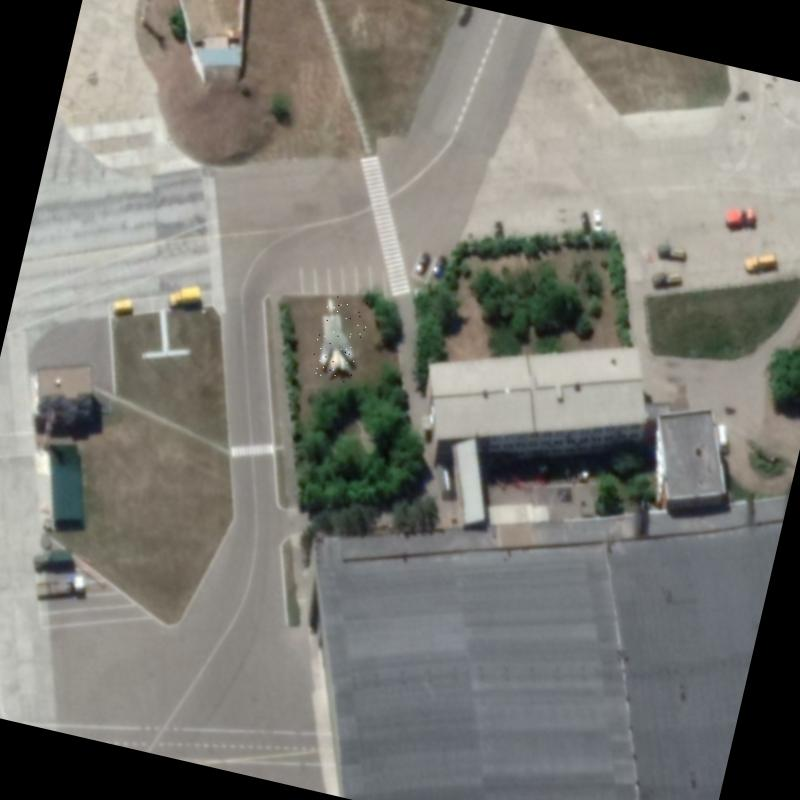A20: (308, 293, 371, 385)
